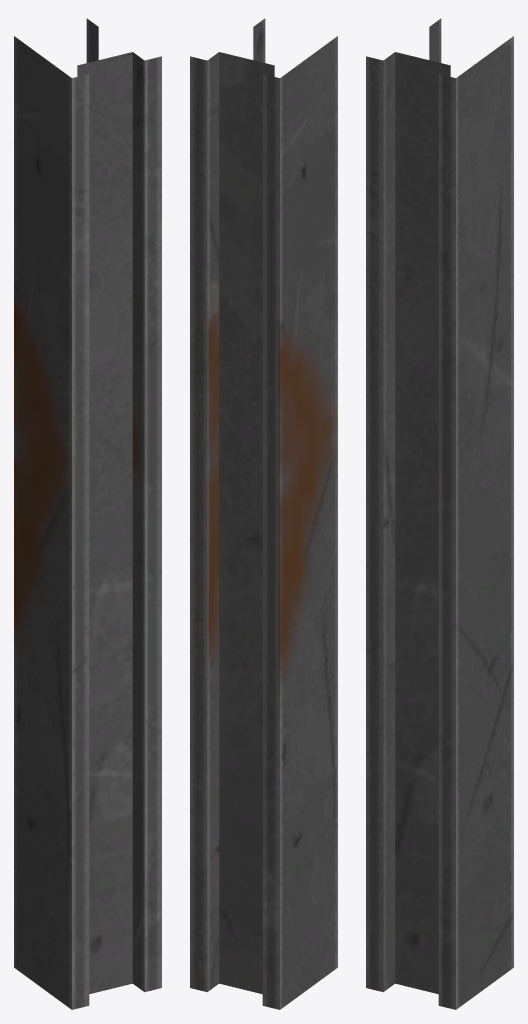
File: roller_middle.glb
3 renders of one model, left to right at view 1: azimuth 30°, elevation 25°; view 2: azimuth 150°, elevation 25°; view 3: azimuth 330°, elevation 25°, orthographic.
Visible parts, largest first — view 1: roller_middle; view 2: roller_middle; view 3: roller_middle.
Boxes of the visible parts, left/top/right/bottom form: roller_middle: left=14, top=18, right=161, bottom=1009; roller_middle: left=190, top=18, right=337, bottom=1009; roller_middle: left=366, top=18, right=513, bottom=1009.
Size of the model in its own units: 0.1009 by 1 by 0.1125.
Materials: 1 (1 with a texture image).
